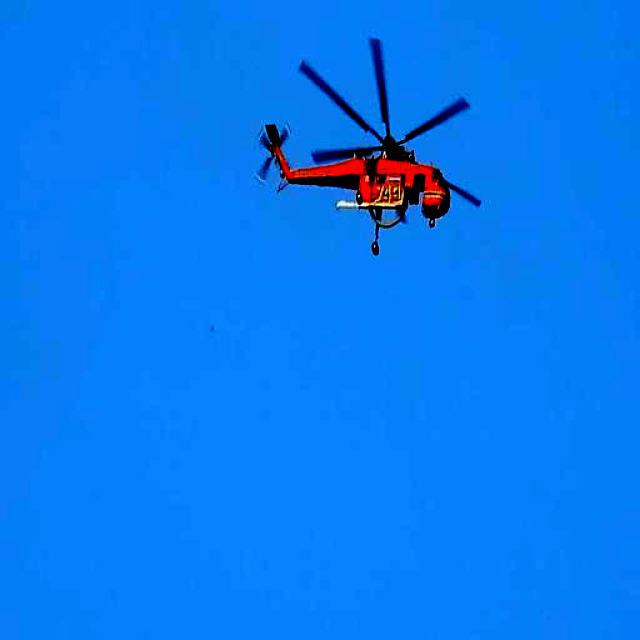drone: (254, 32, 484, 256)
